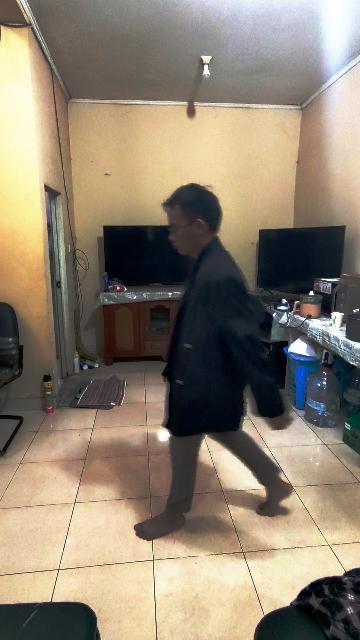berjalan: (129, 182, 293, 538)
